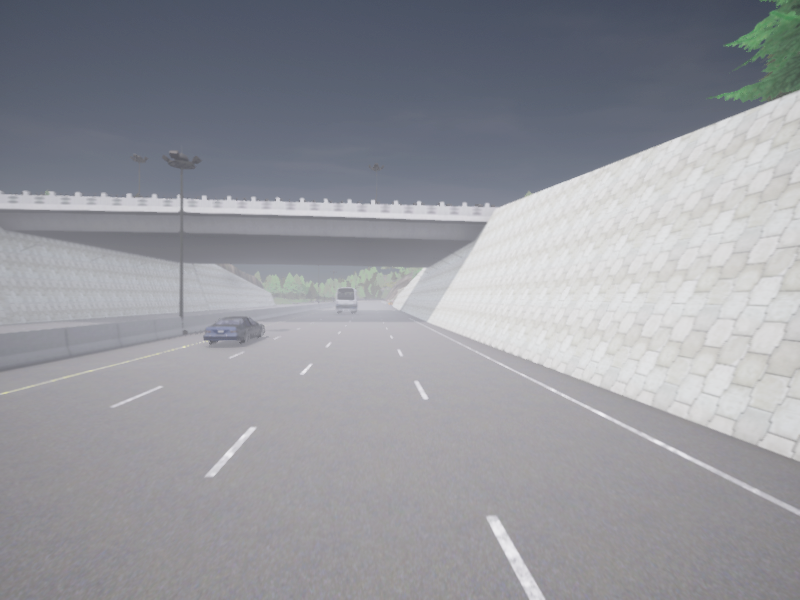vehicle: (203, 316, 264, 343), (336, 288, 358, 312)
